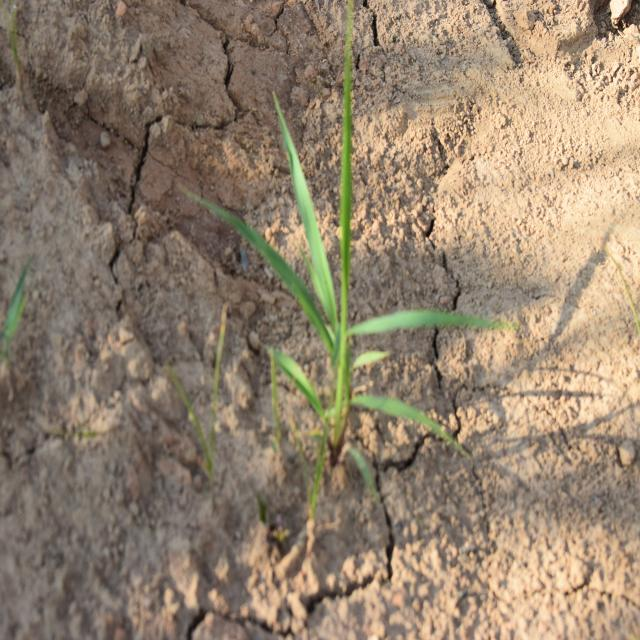green_foxtail: (250, 88, 439, 476)
